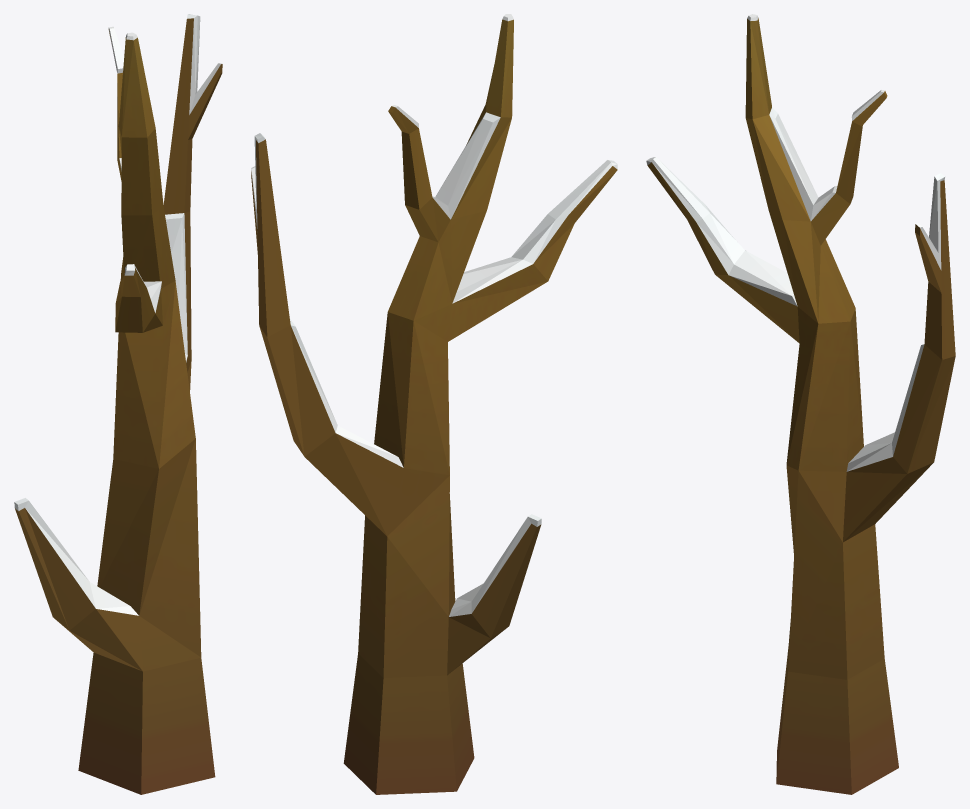
Rendered from HX-kushu1.FBX.
3 views of the same model, side by side, from view 1: azimuth 30°, elevation 25°; view 2: azimuth 150°, elevation 25°; view 3: azimuth 270°, elevation 25° (orthographic). The views are drawn at different scales.
Visible parts, largest first — view 1: kushu1; view 2: kushu1; view 3: kushu1.
Part boxes in pixels (<box>): kushu1: <box>14,14,222,794</box>; kushu1: <box>251,14,617,794</box>; kushu1: <box>646,14,955,794</box>.
Size of the model in its own units: 434 by 1261 by 488.
